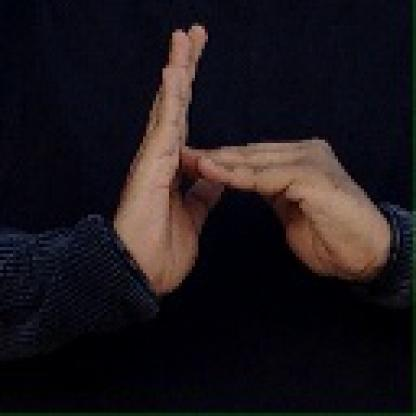Z: (121, 19, 350, 302)
